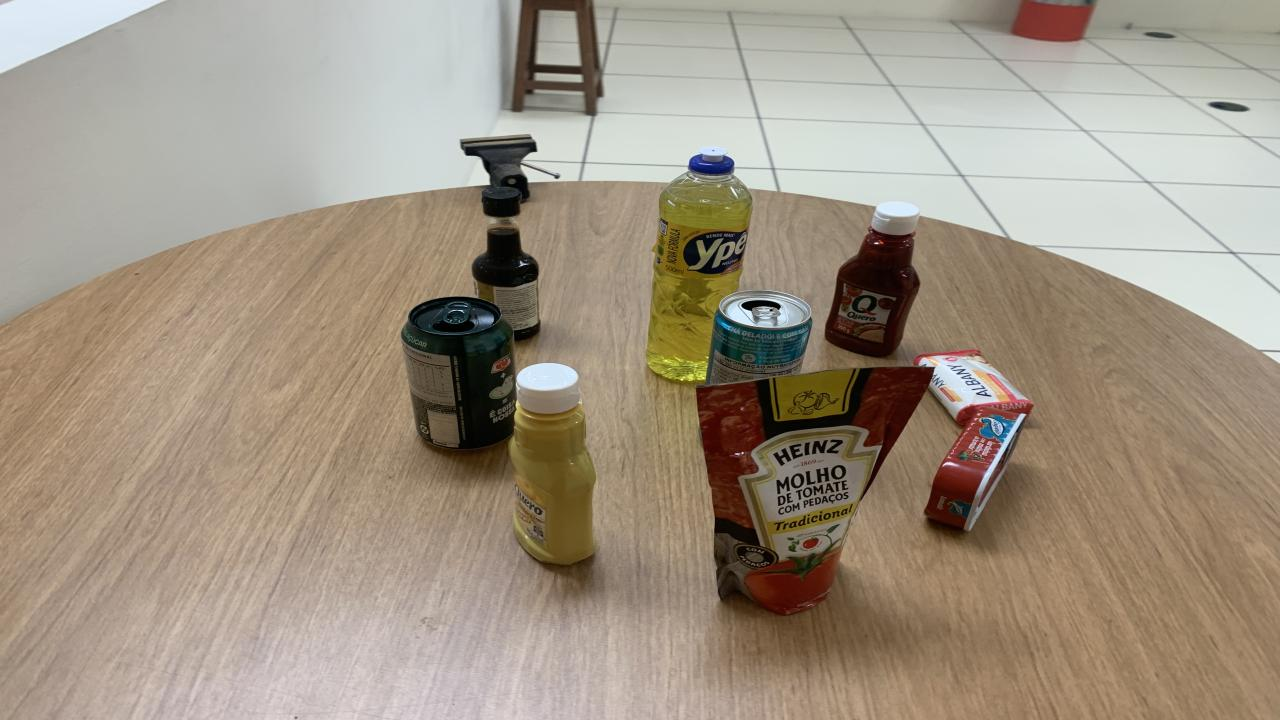Detergent-Cleanup_Items: (645, 148, 752, 382)
English_Sauce-Pantry_Items: (472, 186, 540, 339)
Guarana_Can-Drinks: (400, 296, 515, 448), (705, 291, 812, 384)
Ketchup-Pantry_Items: (825, 202, 920, 356)
Mustard-Pantry_Items: (510, 364, 595, 564)
Soap-Cleanup_Items: (915, 349, 1032, 426)
Tomato_Sauce-Pantry_Items: (698, 368, 930, 613)
Tuna_Can-Pantry_Items: (925, 409, 1028, 531)
